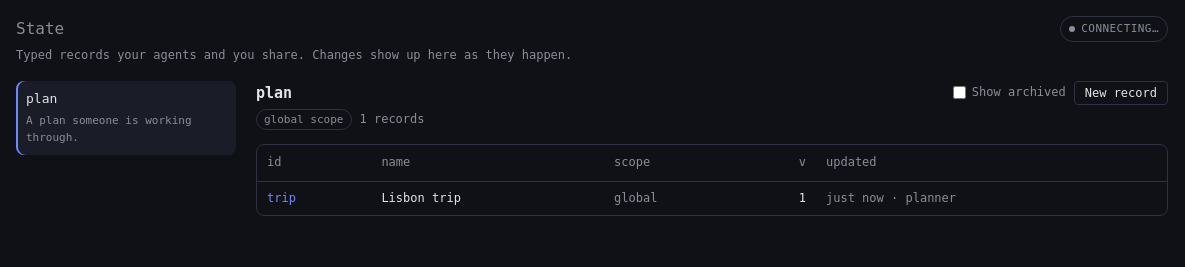
Test: State page › hides archived records until asked, then marks each with when and why
What coordinates should you click on to do the following:
click the checkbox labelled "Show archived"
I would click on:
 (959, 93)
Its box is x1=953 y1=86 x2=966 y2=99.
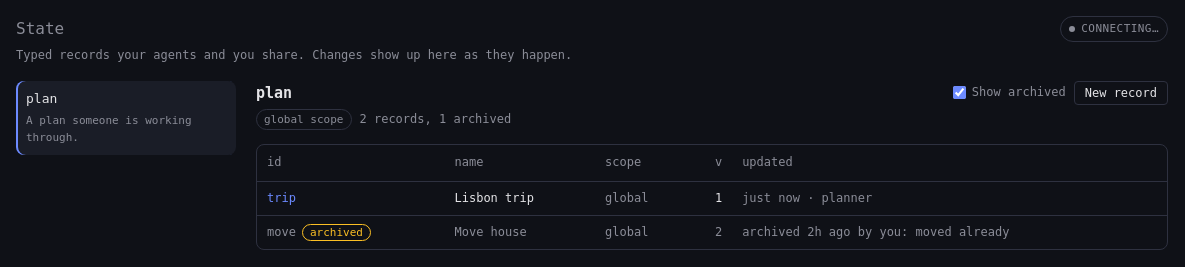
Result: the text with class "state-chip-archived" reads "archived" at x1=310 y1=226 x2=363 y2=239
Result: the row that starts with "move" shows "archived 2h ago by you: moved already" at x1=742 y1=225 x2=1009 y2=239
Result: the element with class "state-meta-line" shows "2 records, 1 archived" at x1=256 y1=109 x2=511 y2=130
